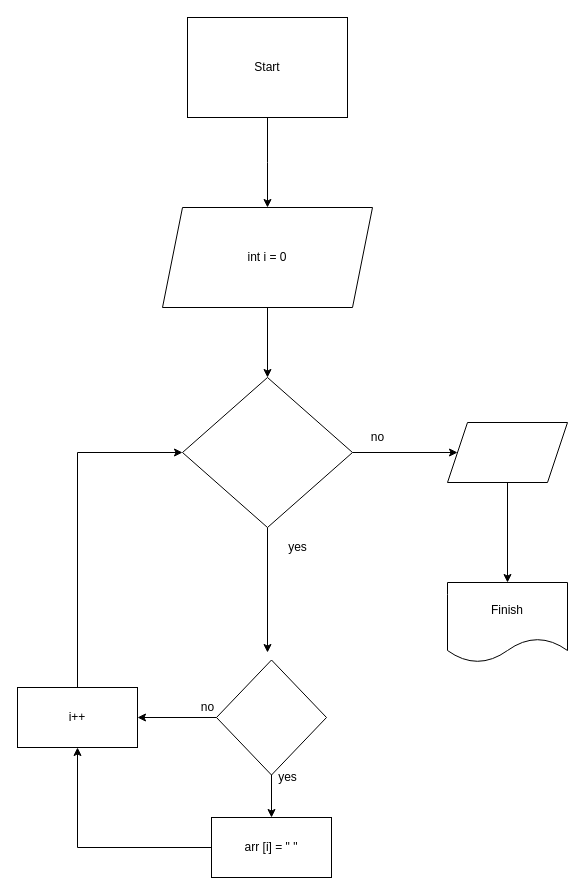
Some shapes in this 585 by 895 pixel diagram are drawn without their labels. The centre of each missing label's shape, as x and y in pixels:
"arr [i]Length>=4" goes at pixel 271 717.
"i < arr.Length" goes at pixel 267 452.
"Вывод arr" goes at pixel 507 452.
